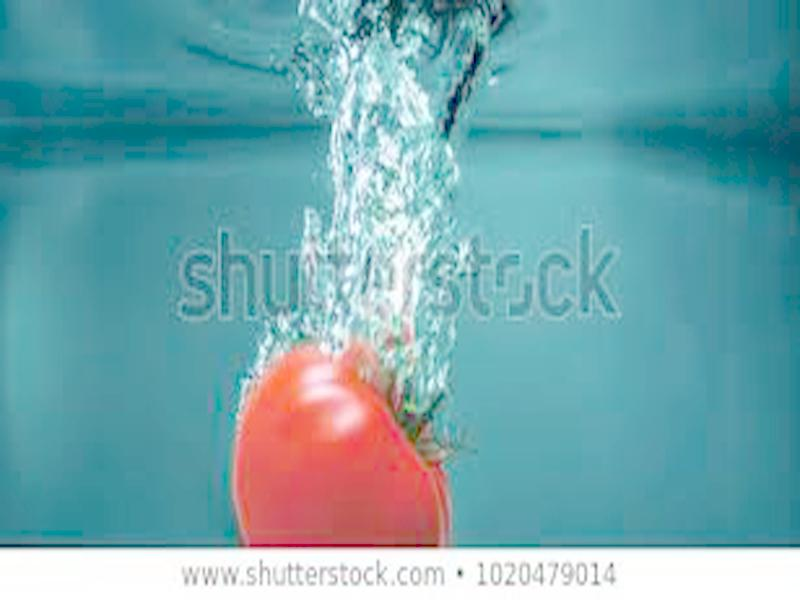Tomato: (234, 342, 452, 548)
